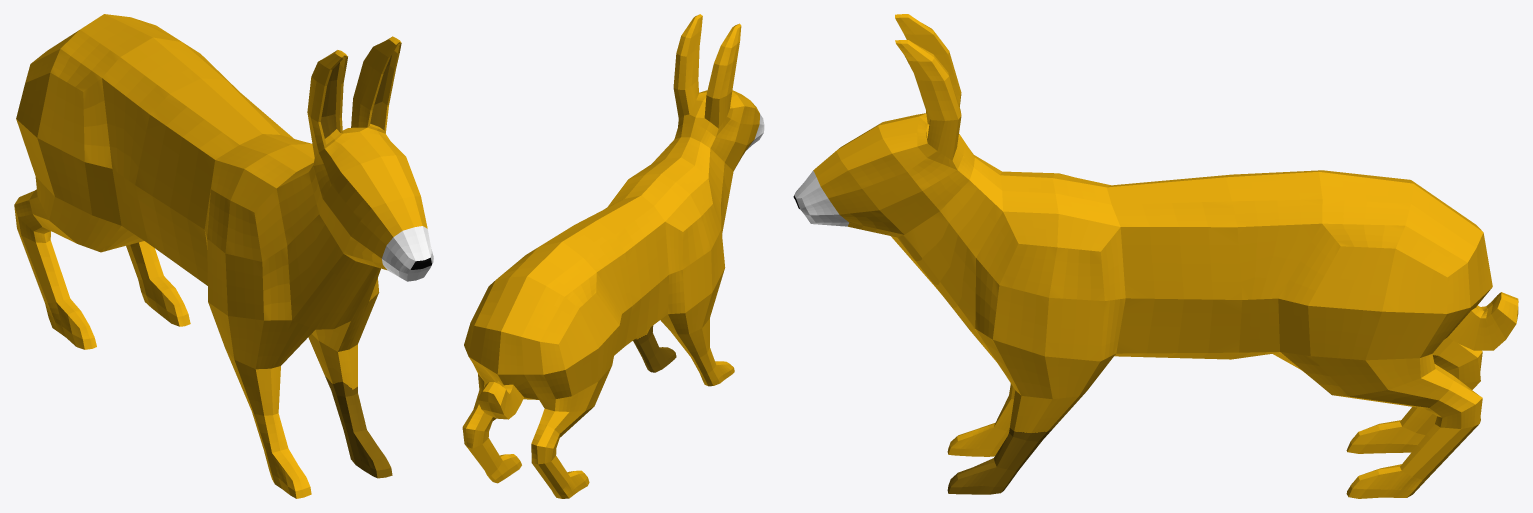
File: Rabbit02.fbx
3 renders of one model, left to right at view 1: azimuth 30°, elevation 25°; view 2: azimuth 150°, elevation 25°; view 3: azimuth 270°, elevation 25°, orthographic. The views are drawn at different scales.
Visible parts, largest first — view 1: Rabbit1; view 2: Rabbit1; view 3: Rabbit1.
Part boxes in pixels (x1,y1,x2,y2): Rabbit1: [14, 14, 433, 498]; Rabbit1: [462, 14, 764, 498]; Rabbit1: [793, 14, 1518, 498].
Size of the model in its own units: 14.47 by 38.33 by 56.52.
Materials: 1 (1 with a texture image).
